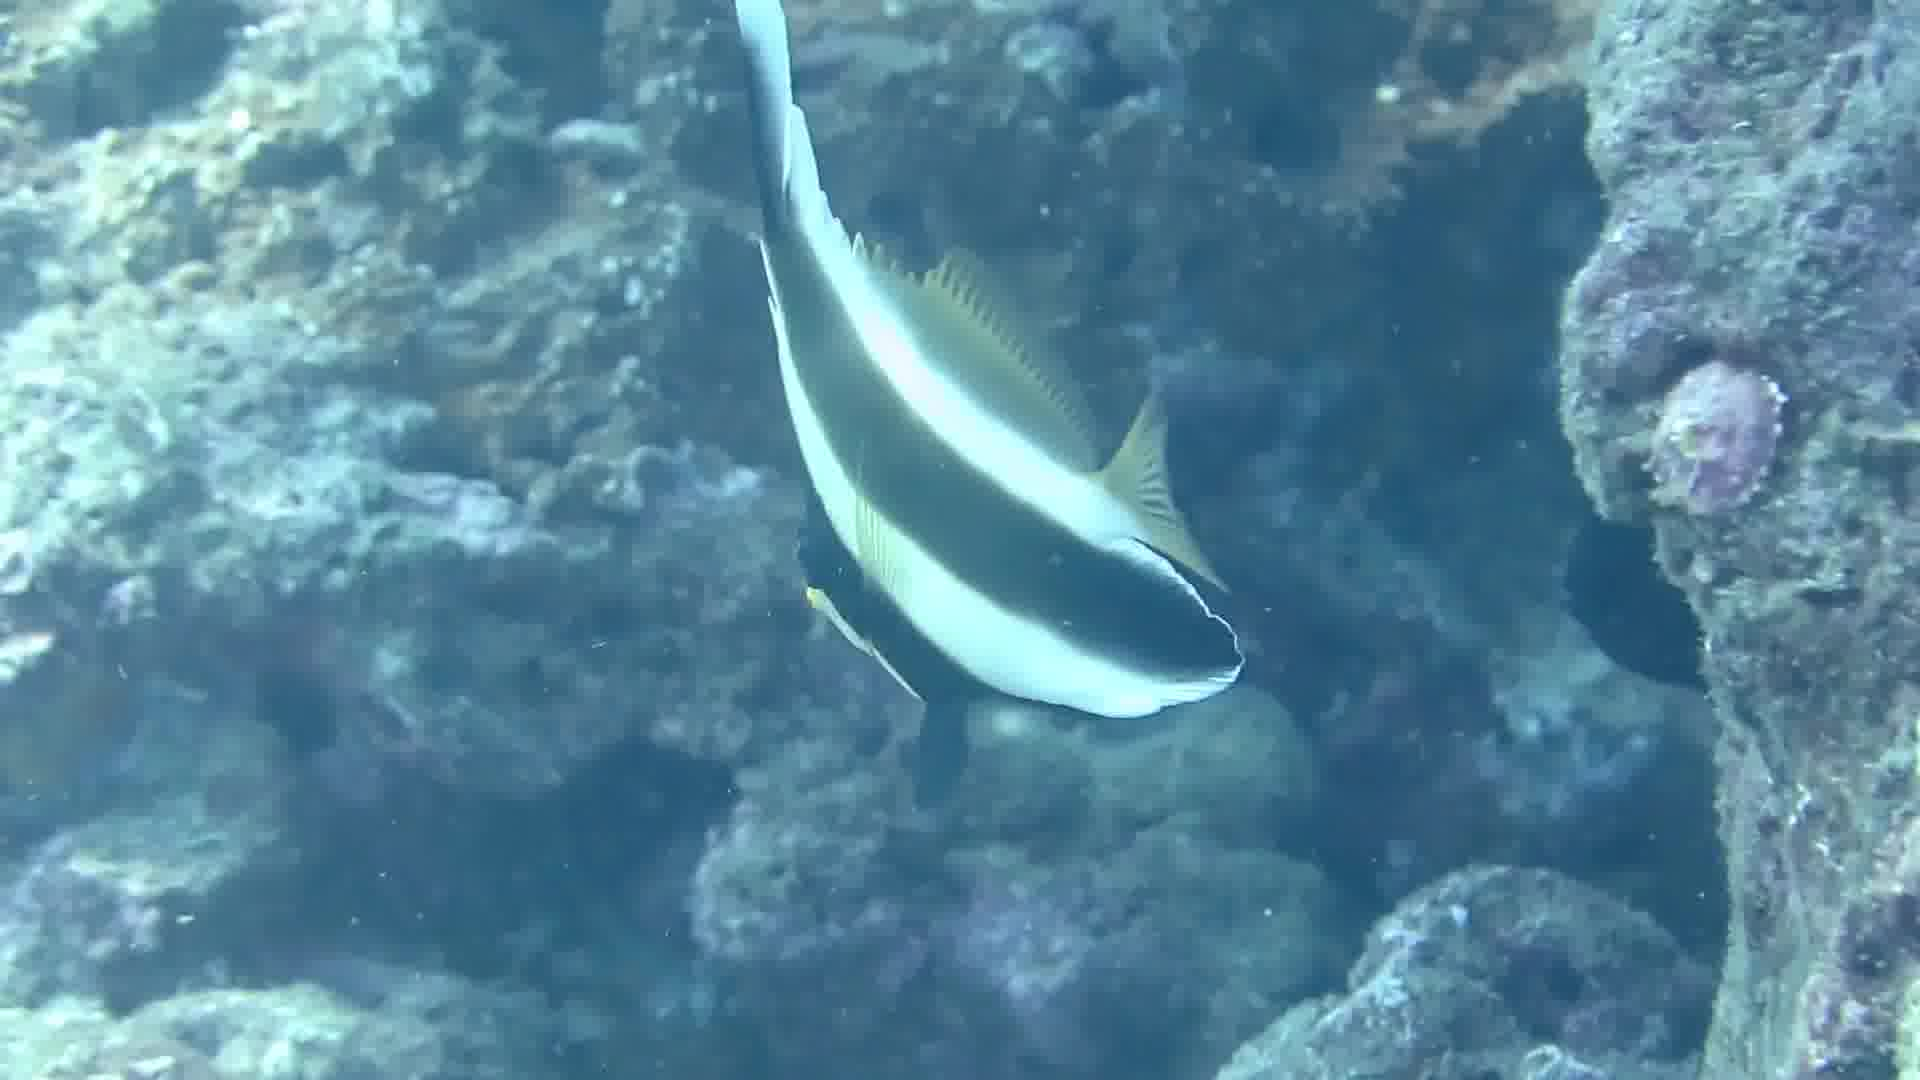Heniochus chrysostomus: (554, 1, 1305, 866)
